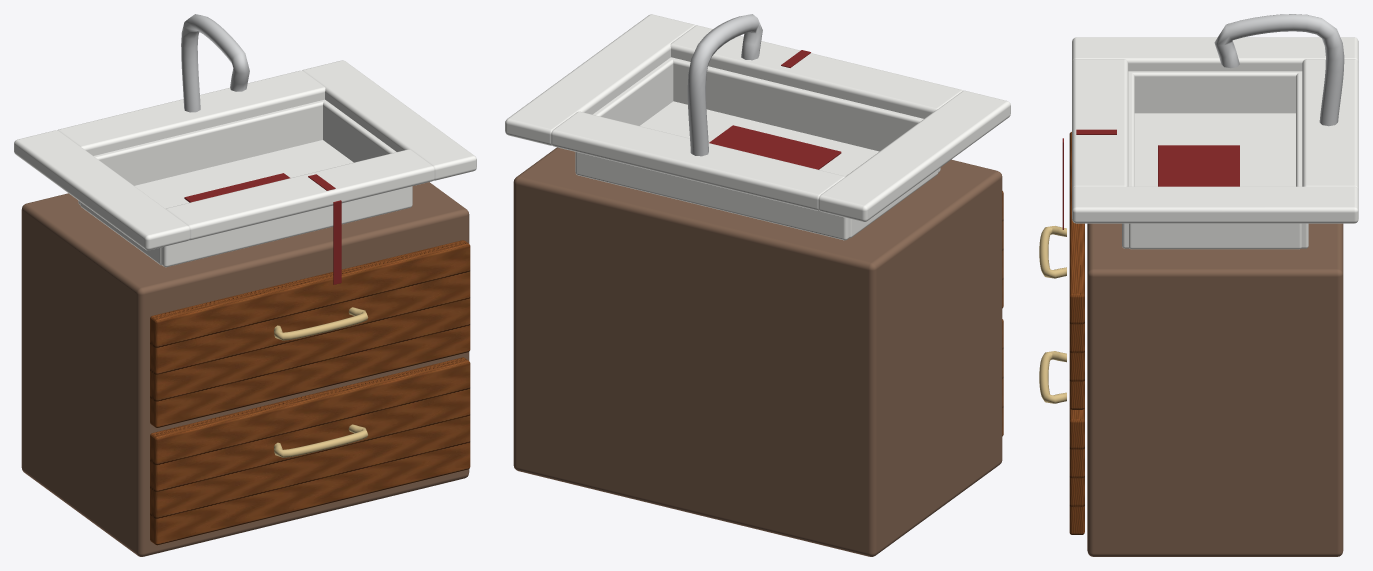
Rendered from paranormal-investigation-house-bloody-sink-83819cf1__26878.glb.
3 renders of one model, left to right at view 1: azimuth 30°, elevation 25°; view 2: azimuth 150°, elevation 25°; view 3: azimuth 270°, elevation 25°, orthographic. The views are drawn at different scales.
Parts seen in each view (by area): view 1: bloody-sink; view 2: bloody-sink; view 3: bloody-sink.
Part boxes in pixels (box(x1,y1,x2,y2)): bloody-sink: box(14, 14, 476, 556); bloody-sink: box(505, 14, 1010, 556); bloody-sink: box(1039, 14, 1358, 556).
Size of the model in its own units: 0.8 by 0.9879 by 0.624.
Materials: 6 (1 with a texture image).
